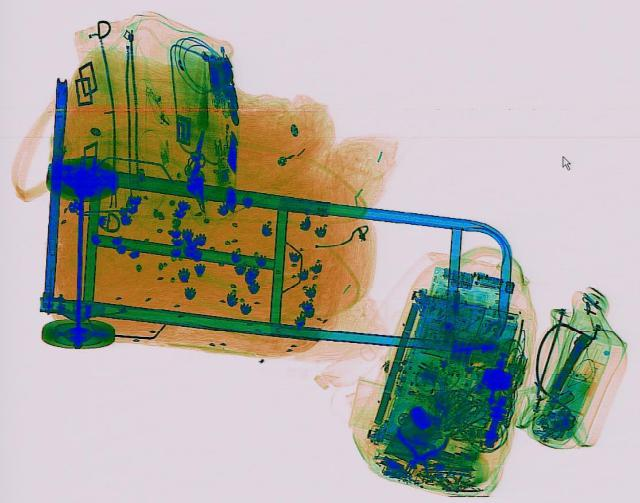Pliers: (388, 428, 449, 472)
